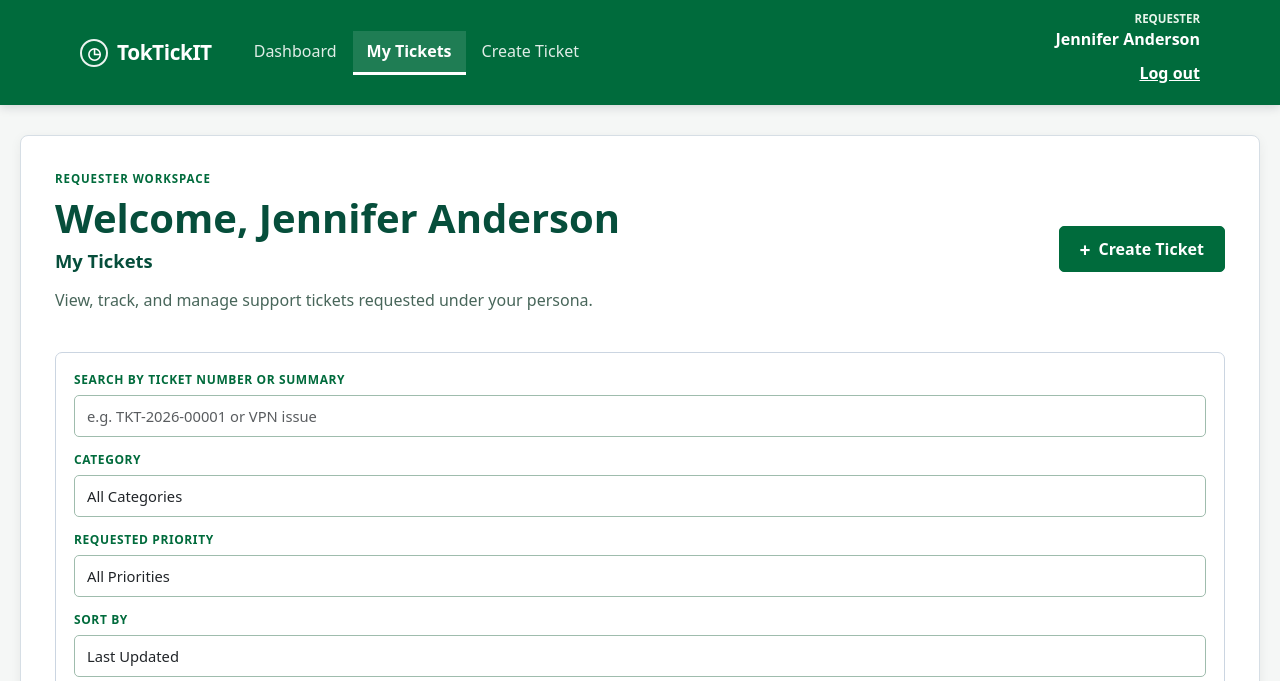
Test: Create Ticket › shows a partial attachment warning without hiding the created Ticket
Click the button "Create Ticket" at (530, 53), box [468,31,593,75]
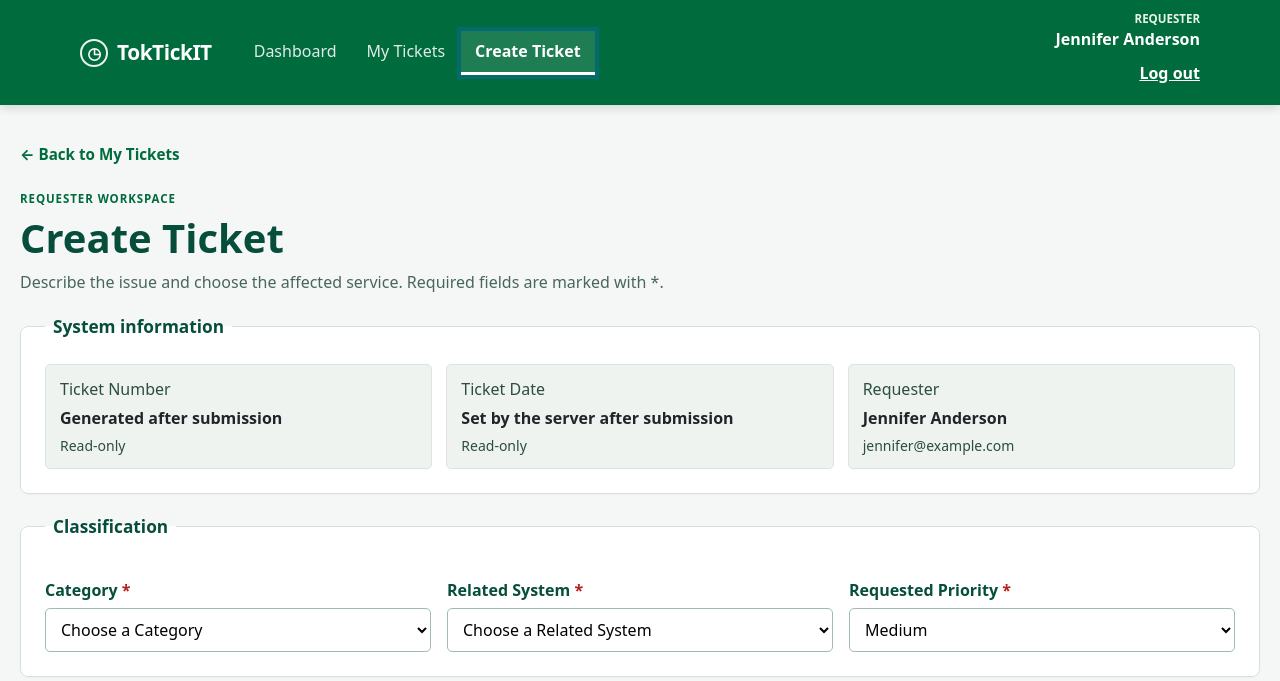
Expected: the heading "Create Ticket" is shown, [20,210,284,265]
Select "Hardware" in the dropdown labelled "Category *" at (238, 630), box [45,608,431,652]
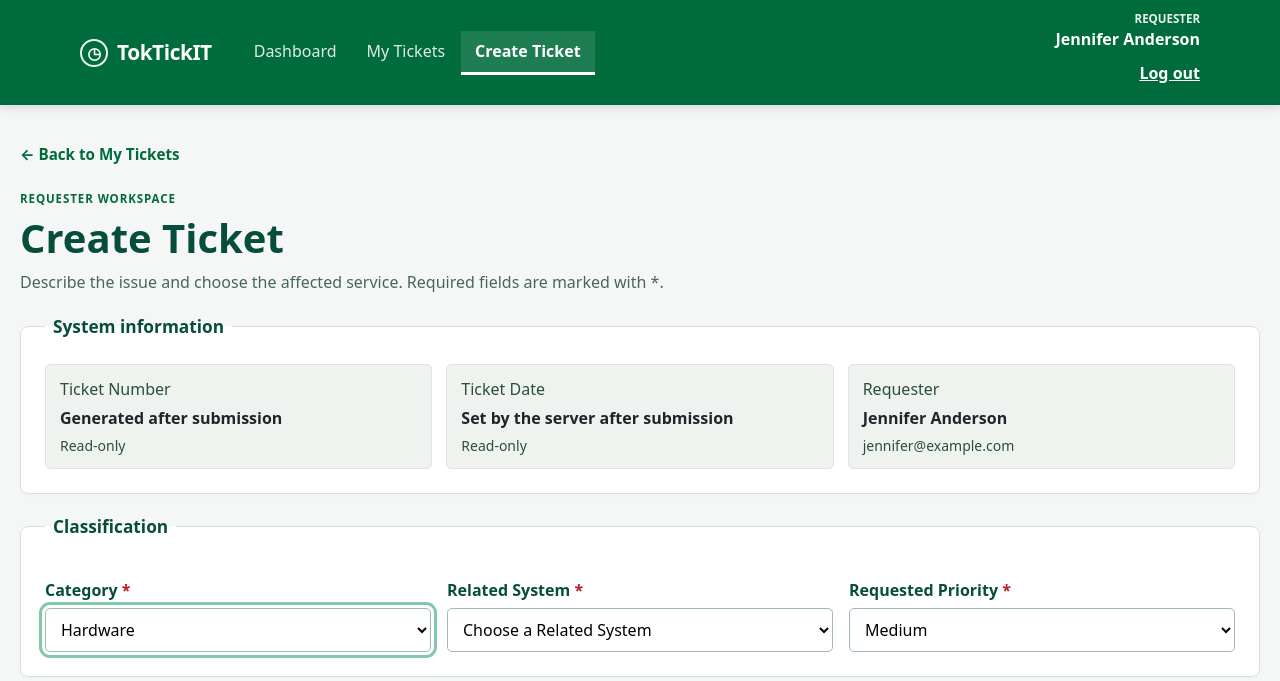
Select "Corporate Laptop" in the dropdown labelled "Related System *" at (640, 630), box [447,608,833,652]
(page scrolled)
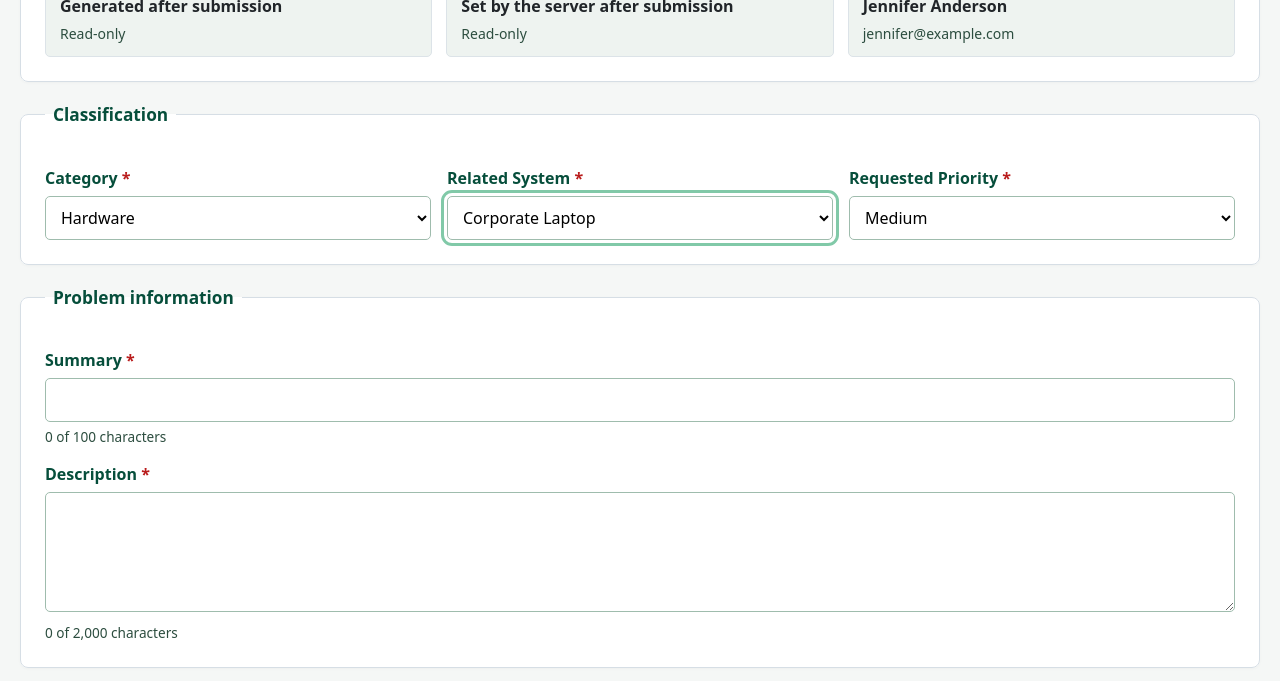
Type "Laptop battery drains" into the field labelled "Summary *" at (640, 400), box [45,378,1235,422]
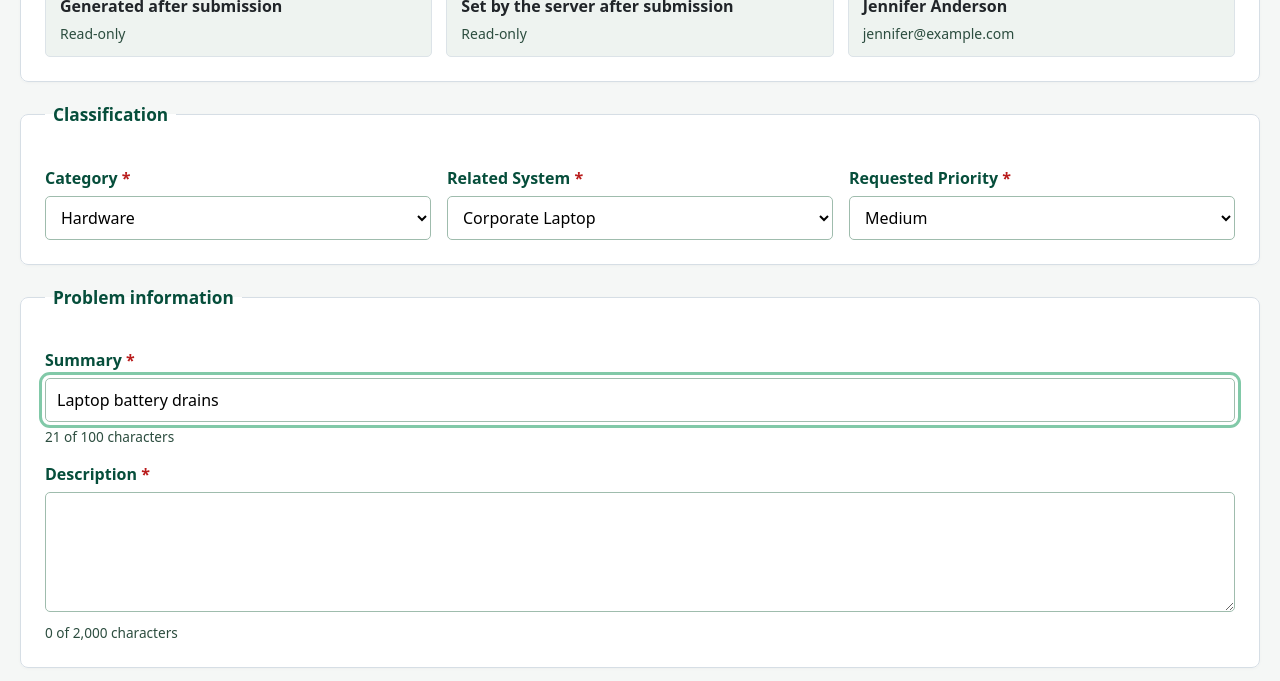
Type "Battery drops from full charge in under thirty minutes." into the text box labelled "Description *" at (640, 552), box [45,492,1235,612]
(page scrolled)
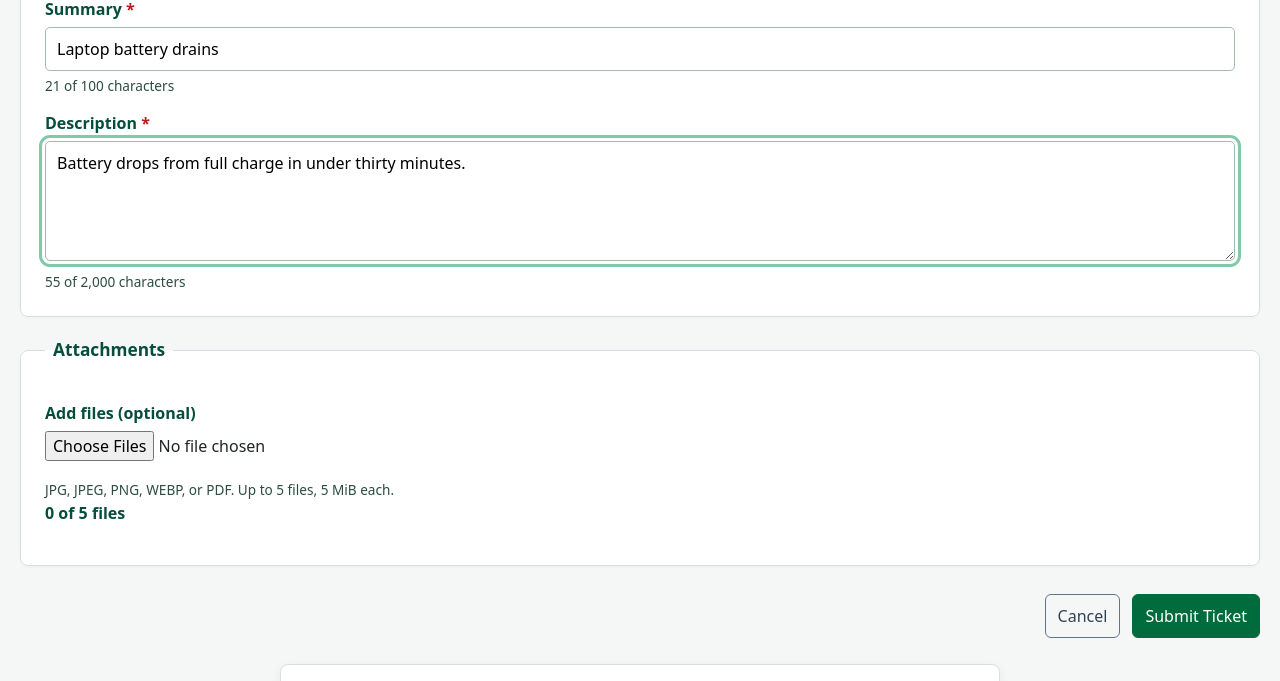
Click the button "Submit Ticket" at (1196, 616), box [1132,594,1260,638]
(page scrolled)
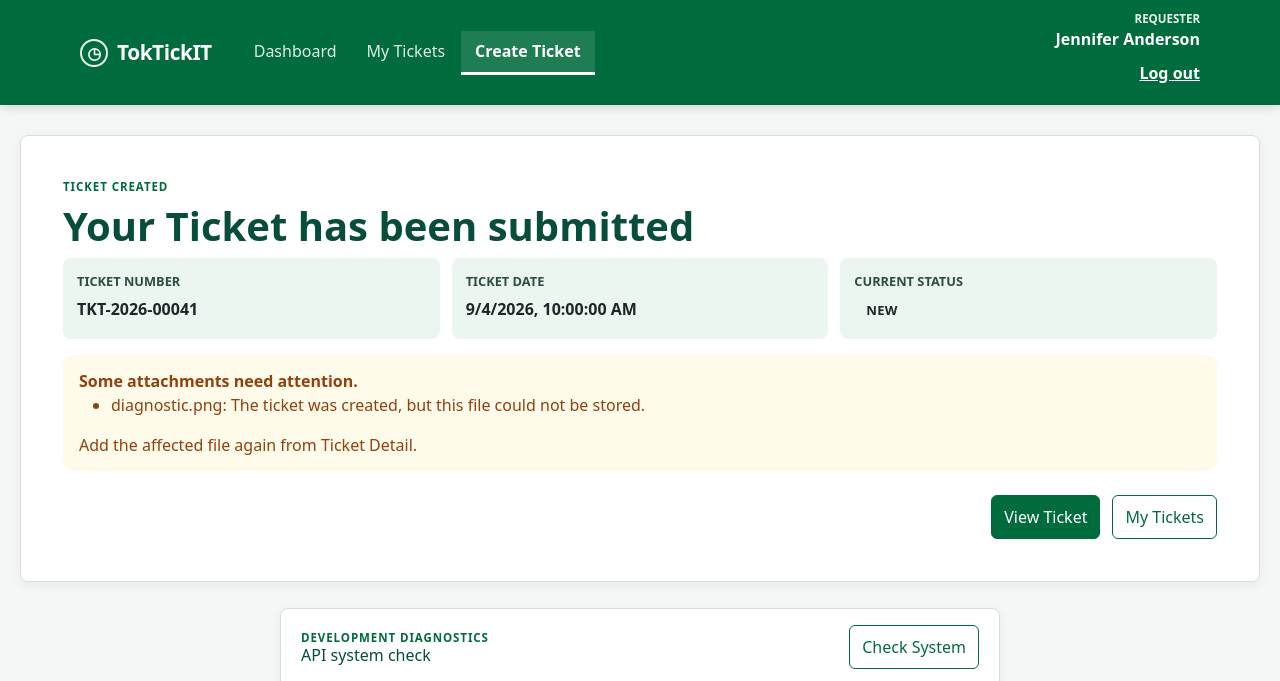
Expected: the text "TKT-2026-00041" is shown, [77,298,198,320]
Expected: the text "Some attachments need attention." is shown, [79,370,358,392]
Expected: the list item "diagnostic.png" is shown, [111,394,231,416]
